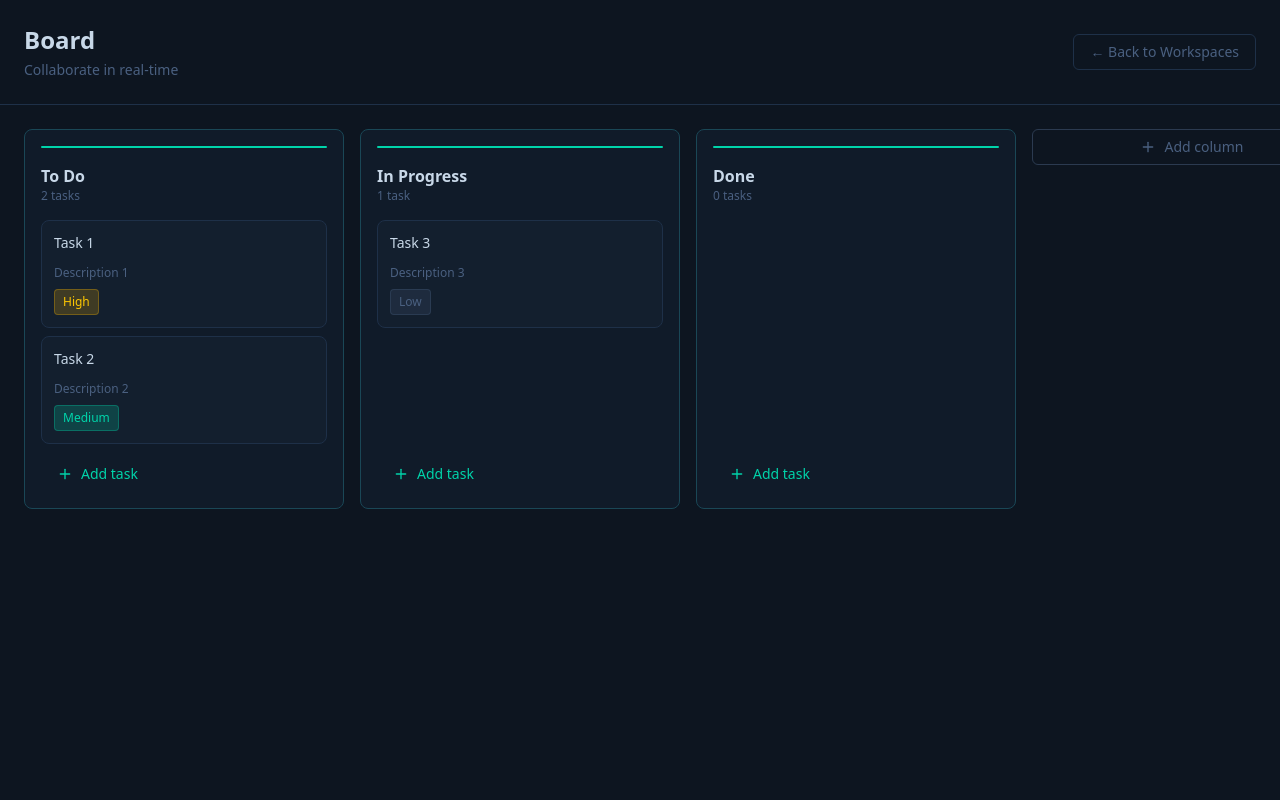
Test: BoardPage › should open create task modal with title, description, priority fields
Expected: the heading "To Do" is shown, [41,164,85,188]
Click the button "Add task" below "Description 2" at (109, 474), box [41,456,327,492]
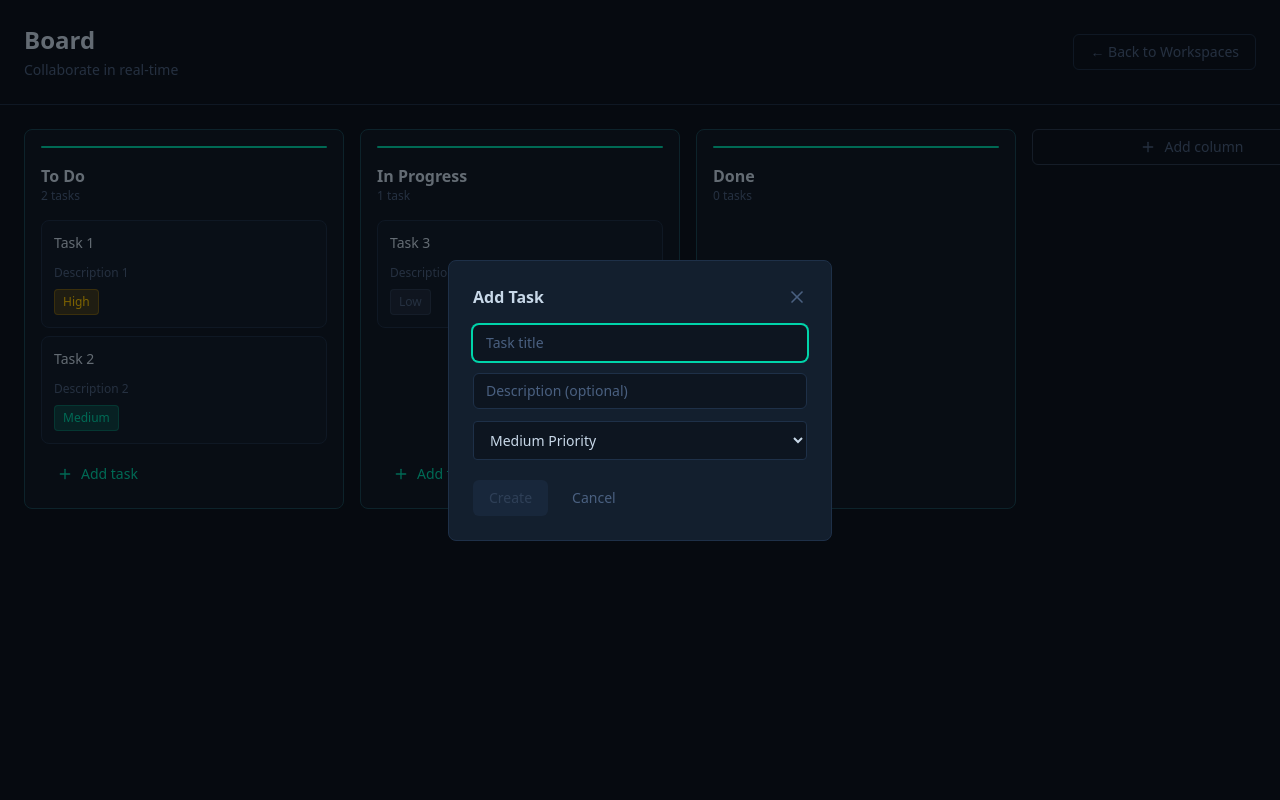
Result: the heading "Add Task" is shown at [473,284,544,308]
Result: the field with placeholder "Task title" is shown at [473,324,807,360]
Result: the field with placeholder "Description (optional)" is shown at [473,372,807,408]
